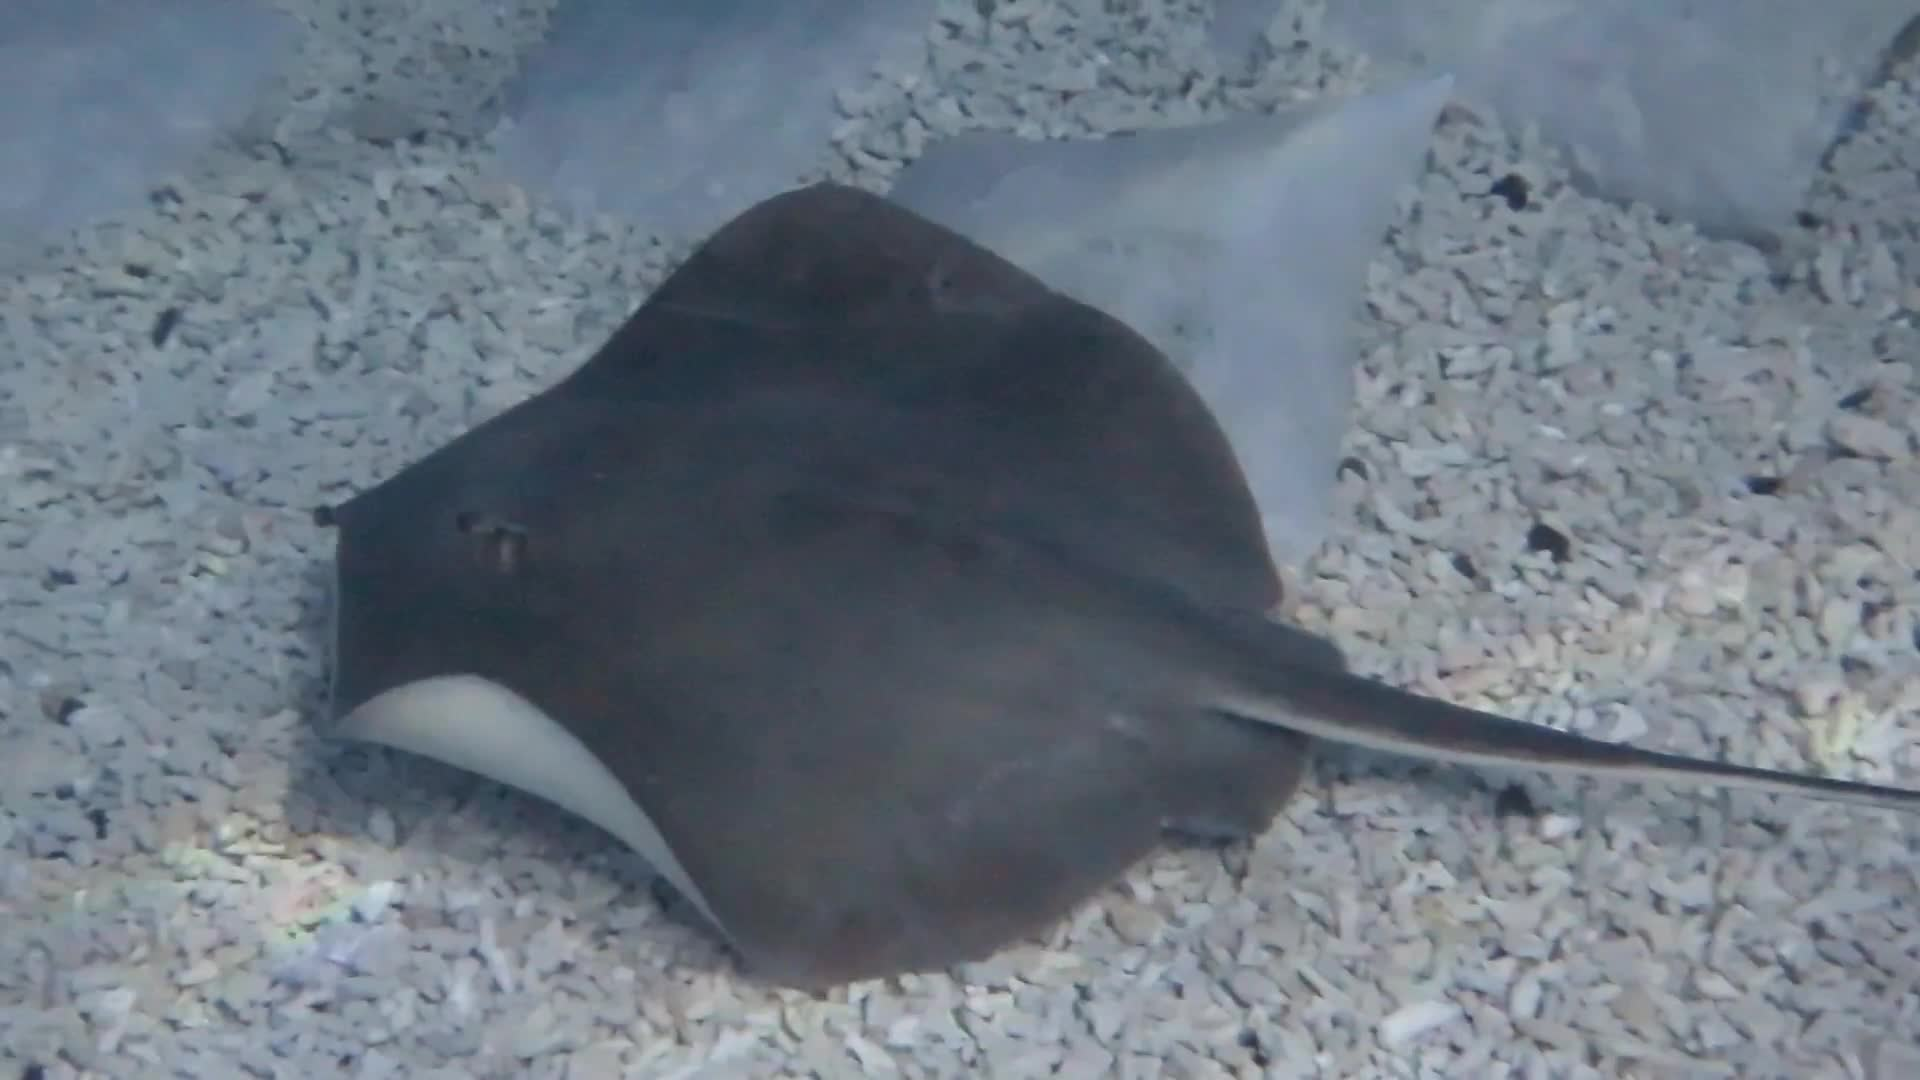Dasyatis bennetti: (244, 181, 1491, 1022)
